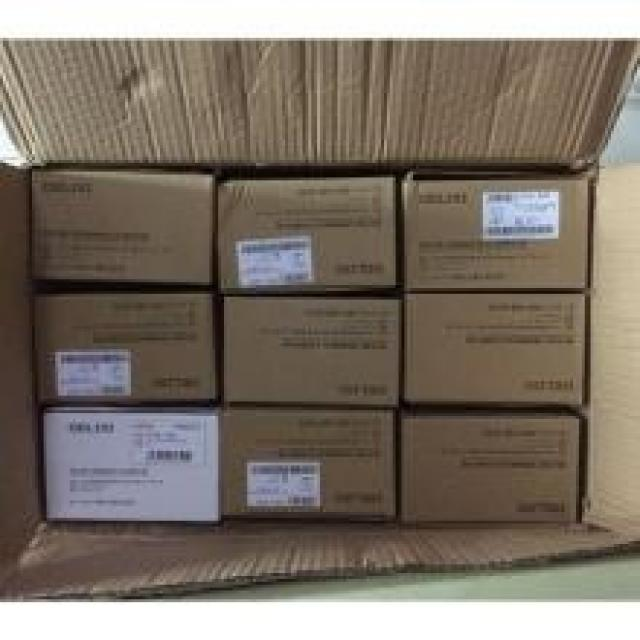box: (404, 177, 591, 291), (218, 177, 399, 294), (404, 294, 588, 407), (29, 172, 212, 285), (44, 410, 221, 521), (32, 297, 215, 401), (221, 410, 396, 518), (221, 300, 401, 404), (401, 419, 579, 524)
